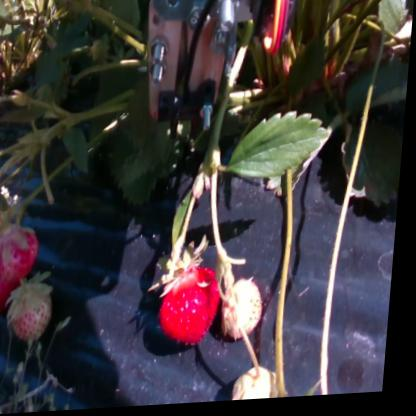ripe: (165, 270, 227, 348), (0, 229, 46, 280), (0, 260, 24, 309)
unripe: (14, 285, 55, 341), (223, 285, 264, 334), (239, 373, 286, 403)
